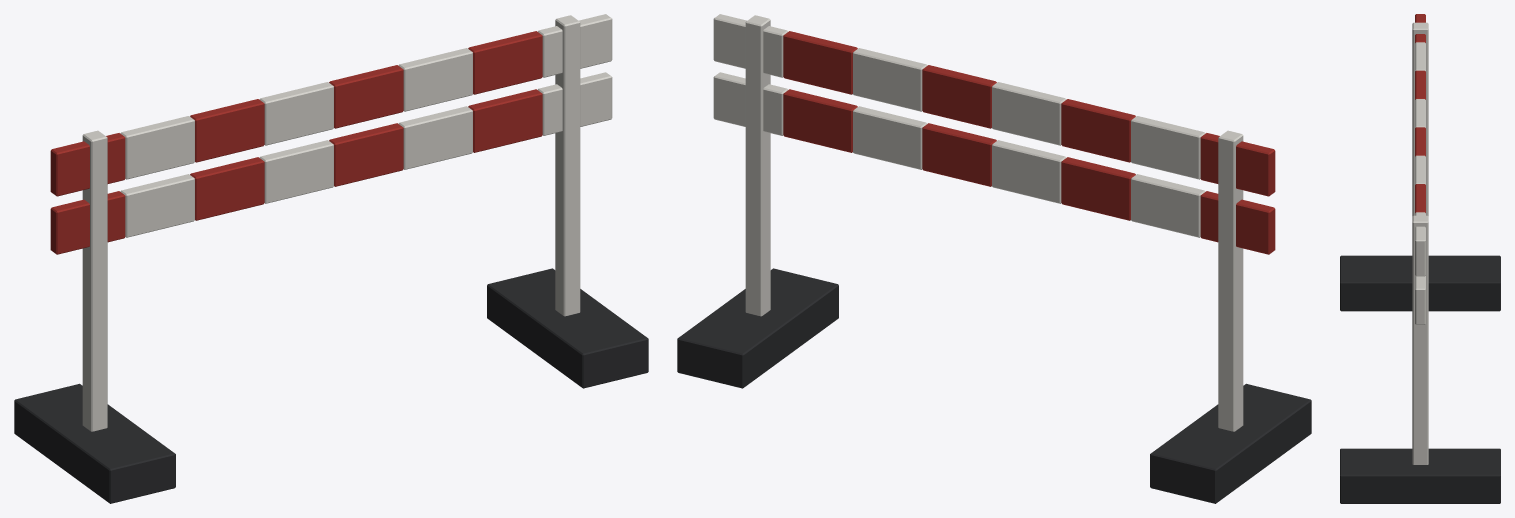
Rendered from prop_barrier_roadworks.glb.
The picture shows the model from 3 angles, left to right: view 1: azimuth 30°, elevation 25°; view 2: azimuth 150°, elevation 25°; view 3: azimuth 270°, elevation 25°; orthographic projection. The views are drawn at different scales.
Parts seen in each view (by area): view 1: Barrier; view 2: Barrier; view 3: Barrier.
Part boxes in pixels (left/top/right/bottom): Barrier: left=14, top=14, right=648, bottom=503; Barrier: left=677, top=14, right=1311, bottom=503; Barrier: left=1340, top=14, right=1500, bottom=503.
Size of what is drawn, in the model's own units: 2 by 1.12 by 0.6.
